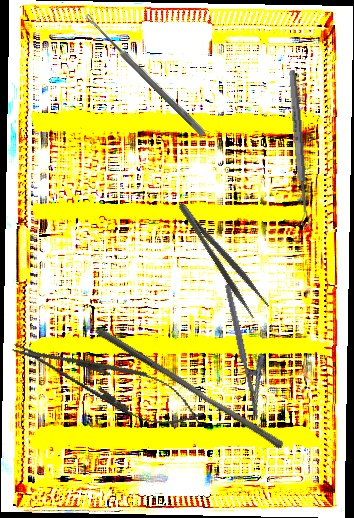Dressing Forceps: (175, 193, 271, 321)
Needle Holder: (4, 324, 210, 440), (223, 279, 278, 422)
Pusher: (88, 325, 290, 451)
Surgical Spoon: (82, 12, 208, 138), (287, 69, 311, 229)
